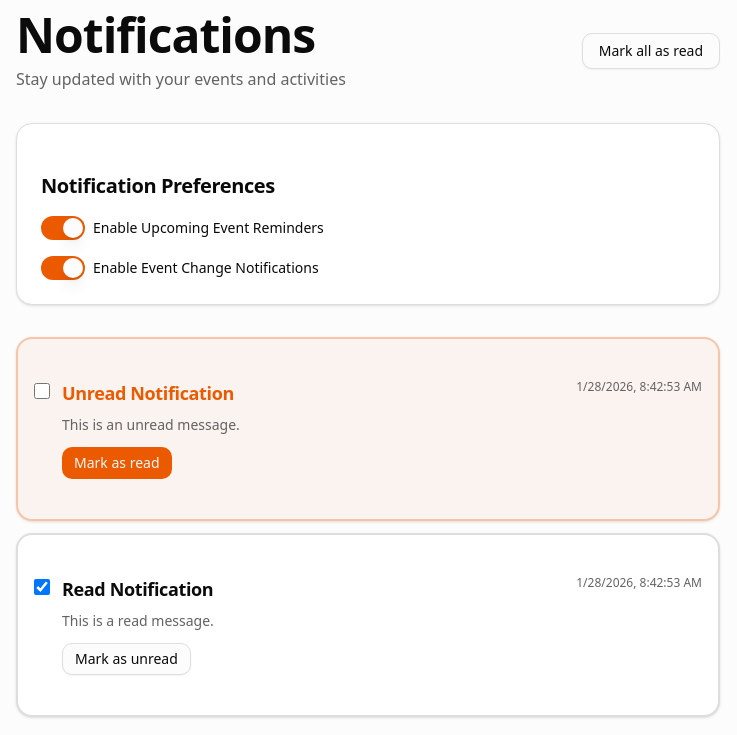
Scenario: NotificationsPage › should show an error if 'Mark all as read' fails
Expected: the heading "Unread Notification" is shown, [62,379,234,407]
Click the button "Mark all as read".
click(651, 51)  # box [582,33,720,69]
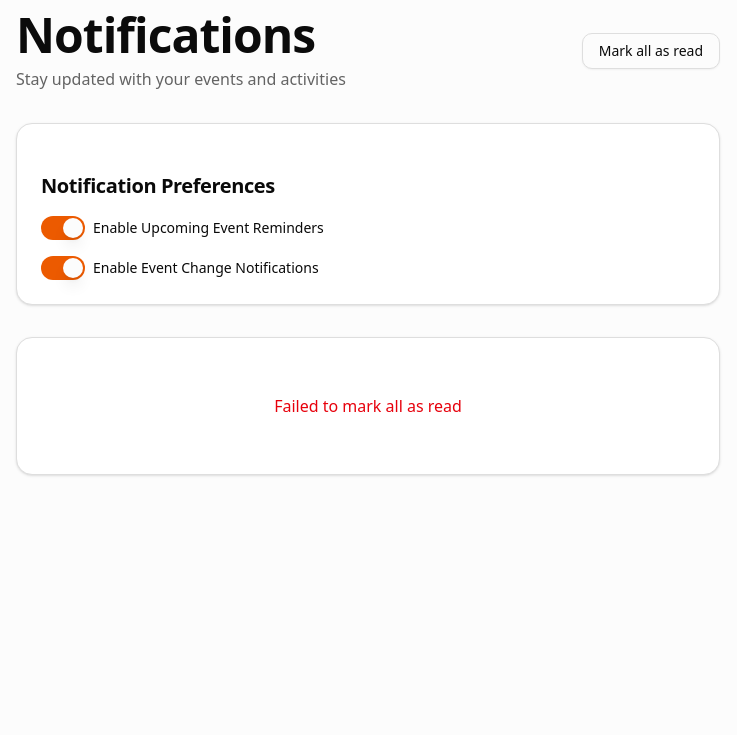
Now the text "Failed to mark all as read" is shown, box [274,395,462,417]
